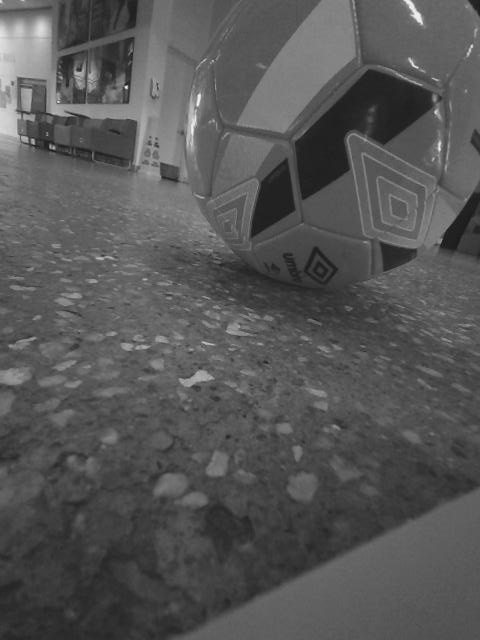ball: (180, 3, 480, 291)
